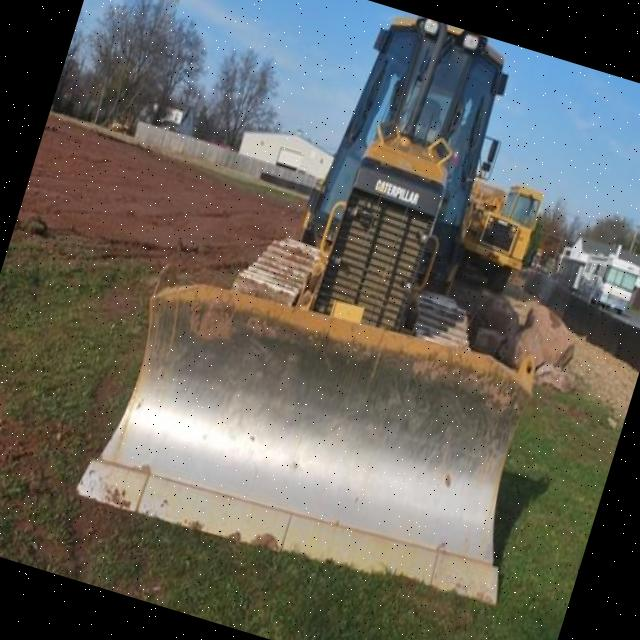Bulldozer: (51, 0, 640, 626)
